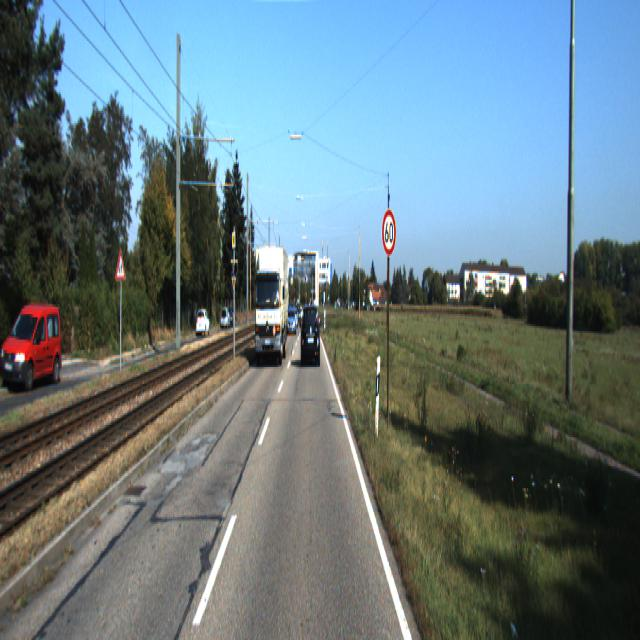Car: (0, 300, 63, 394), (254, 238, 289, 370), (301, 301, 321, 366), (196, 309, 211, 338), (286, 304, 297, 336)
